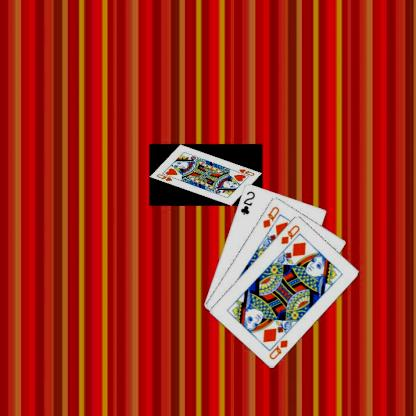2C: (238, 188, 256, 216)
QD: (266, 337, 289, 361), (278, 222, 301, 245), (260, 204, 281, 229)
